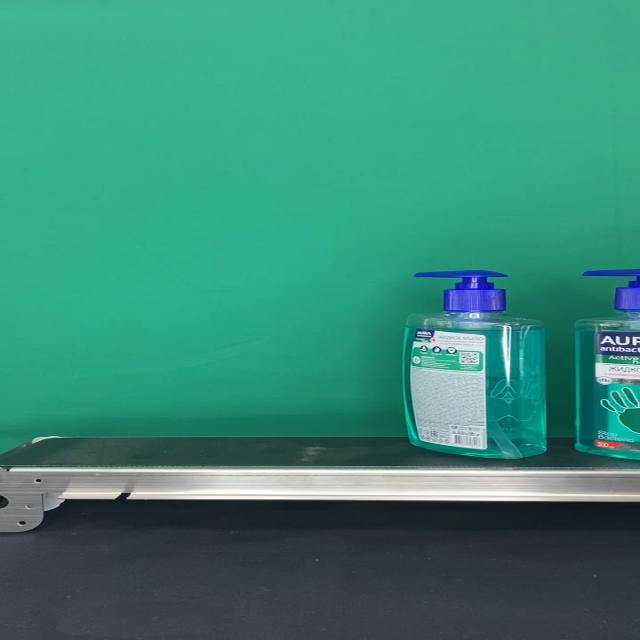Bottle: (402, 270, 546, 459)
Cap: (414, 270, 507, 312)
